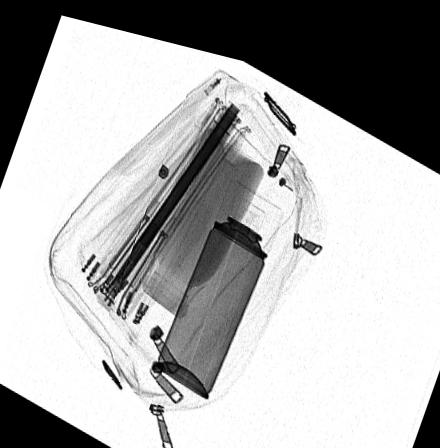Sprayer: (154, 166, 282, 391)
